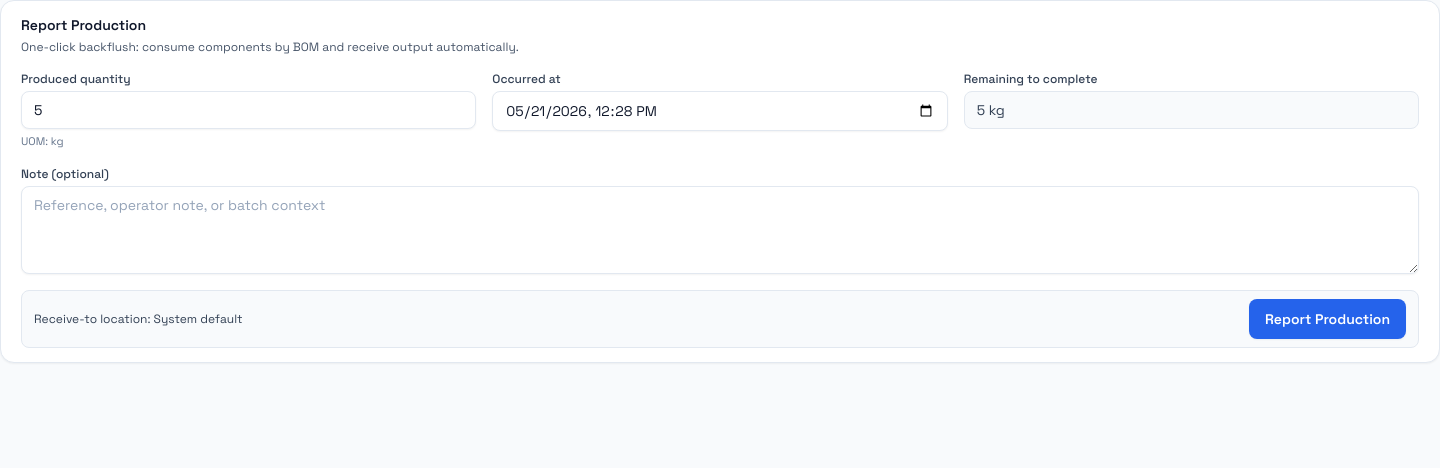
Test case: UI async and state rendering › renders error alert for report production failures
This screenshot has width=1440, height=468.
Click the button "Report Production" at (1328, 318), box [1249,298,1406,338]
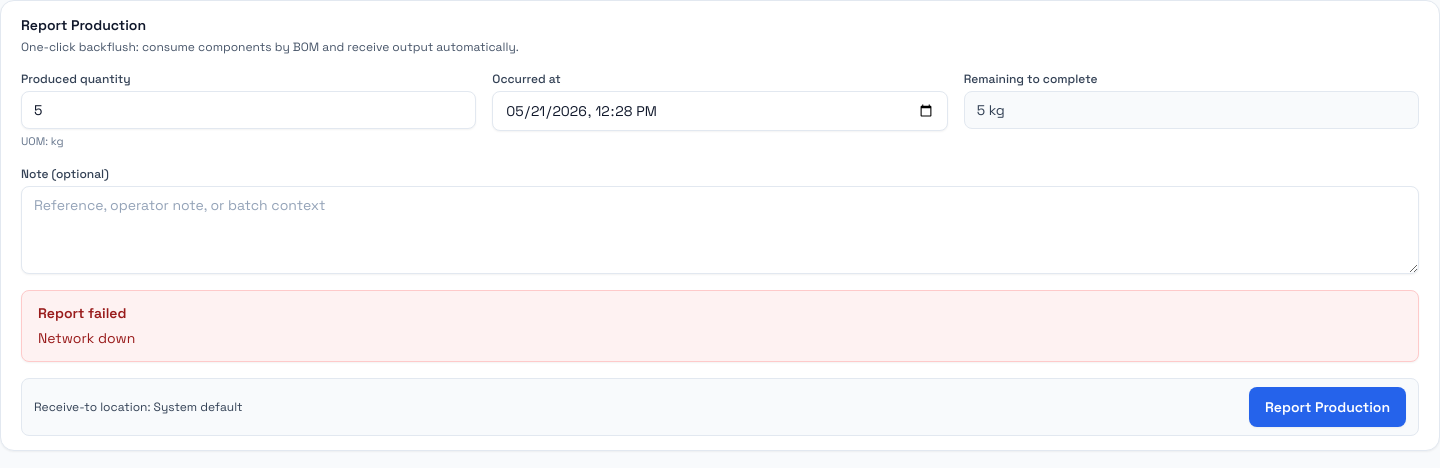
Expected: the text "Report failed" is shown, [38,304,126,322]
Expected: the text "Network down" is shown, [38,328,135,346]
